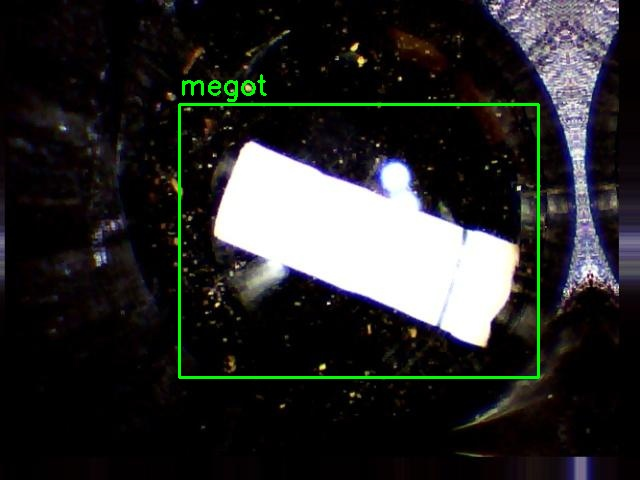megot: (179, 104, 538, 377)
